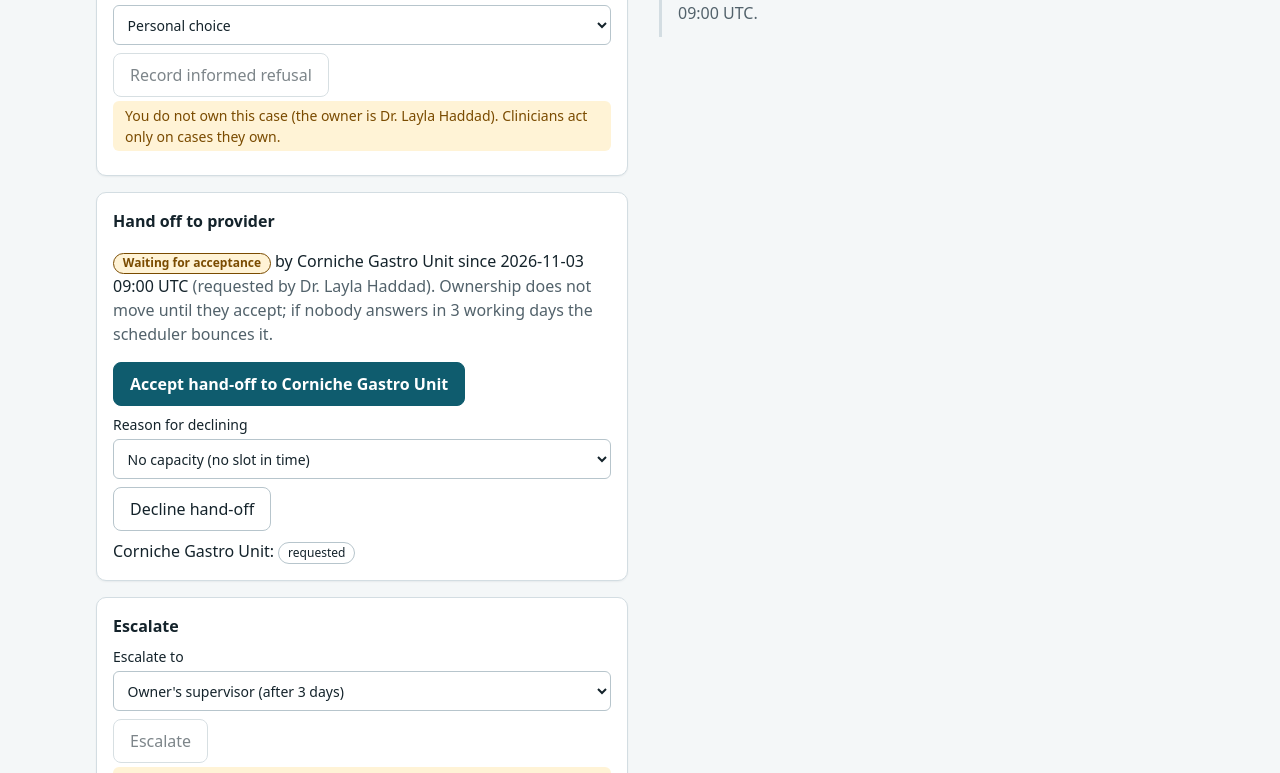
Hand-off: pending, bounced, owner scoping (A5) › the clinician at the receiving provider can accept a pending hand-off and becomes the owner
(page scrolled)
Click the button with test id "accept-handoff" at (289, 384), box [113,362,465,406]
(page scrolled)
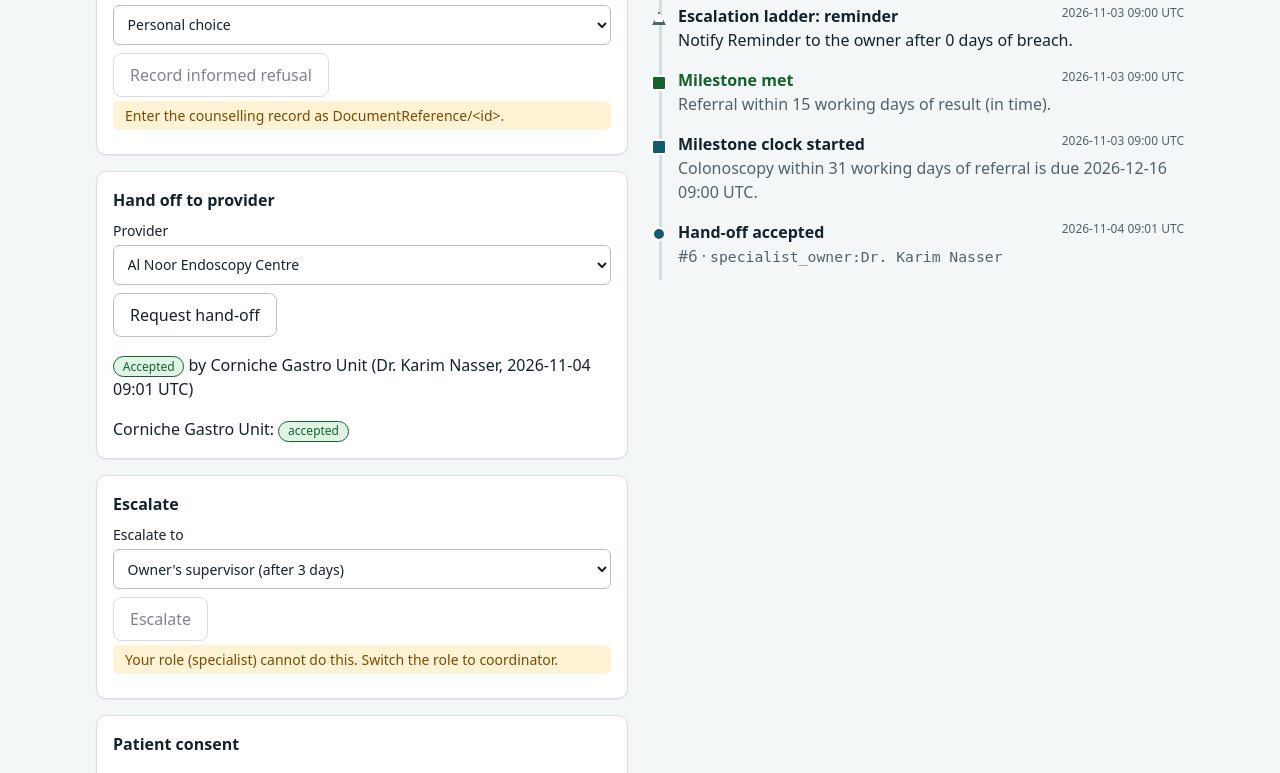
Expected: the element with test id "handoff-waiting" is gone
Expected: the element with test id "handoff-accepted" reads "Accepted by Corniche Gastro Unit (Dr. Karim Nasser, 2026-11-04 09:01 UTC)", [113,353,611,402]
Expected: the text "specialist_owner:Dr. Karim Nasser" is shown, [710,248,1002,265]
